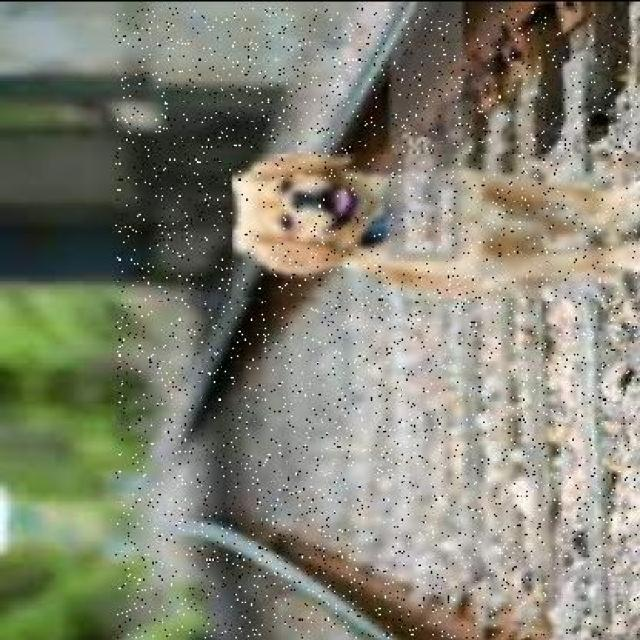danger: (233, 152, 636, 296)
rail: (116, 6, 640, 637)
